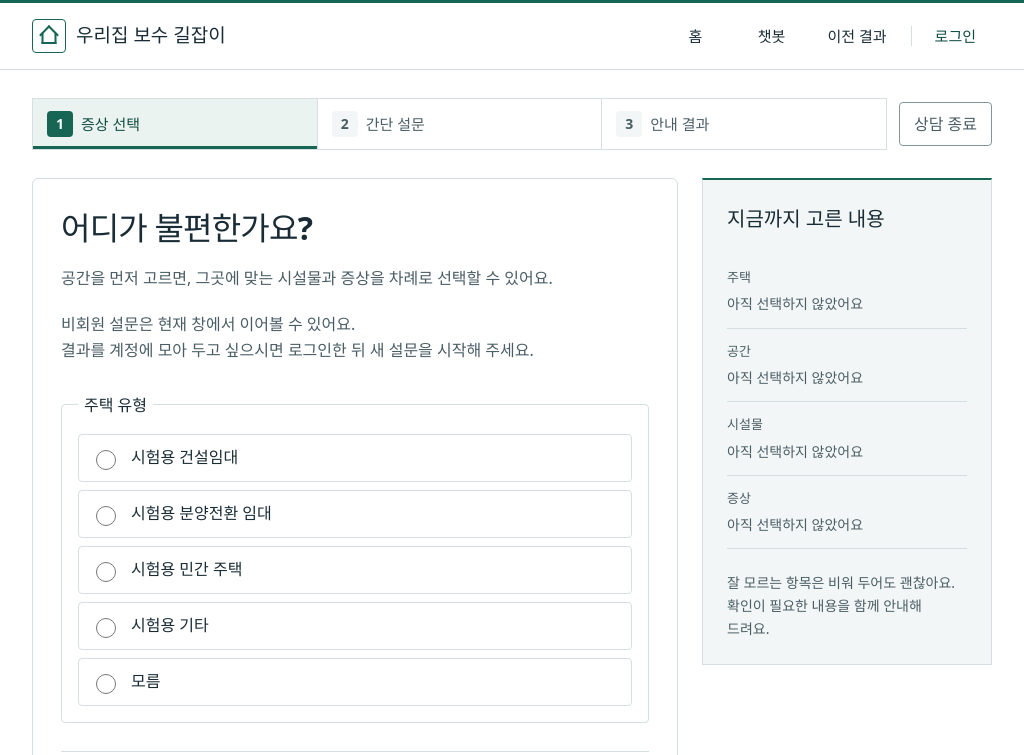
Test case: lets a person with an unknown facility report a visible ceiling leak
Click the radio button labelled "시험용 건설임대".
click(106, 460)  # box [96,450,116,470]
(page scrolled)
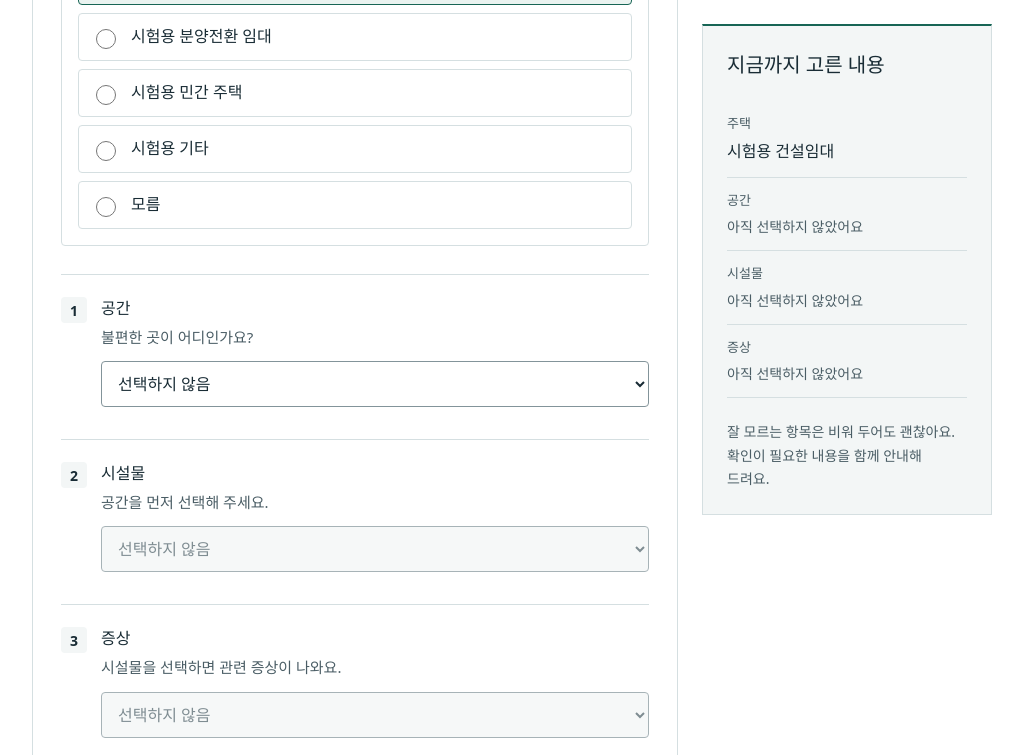
Select "시험용 공간" in the dropdown with id "room" at (375,384), box [101,361,649,407]
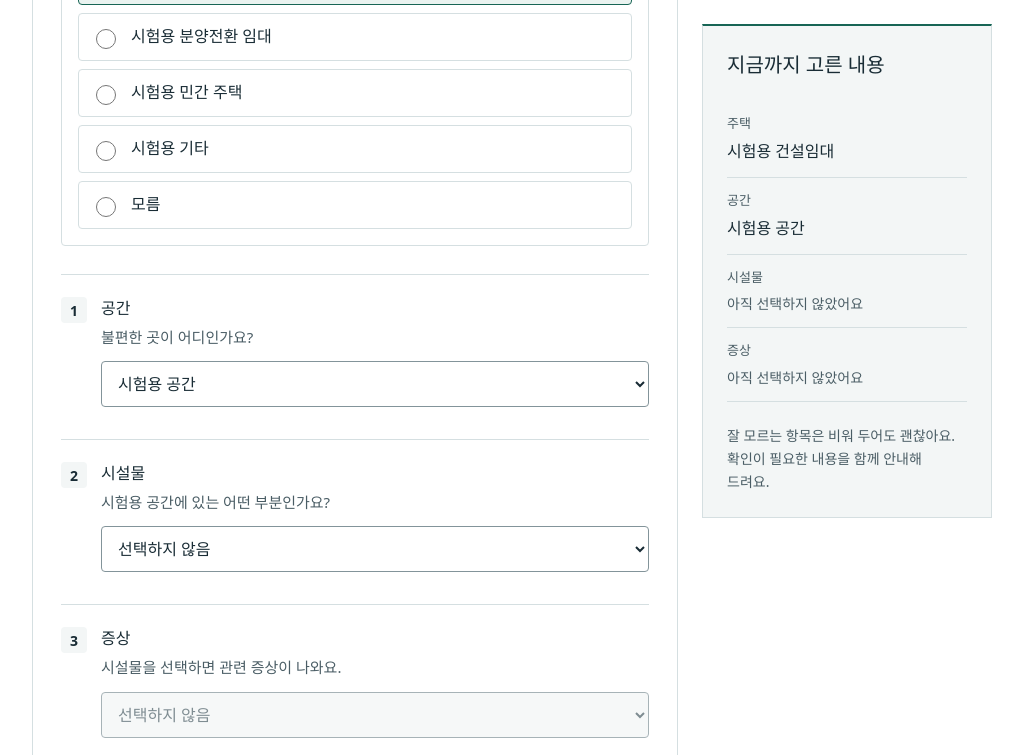
Select "벽·천장 마감" in the dropdown with id "facility" at (375,549), box [101,526,649,572]
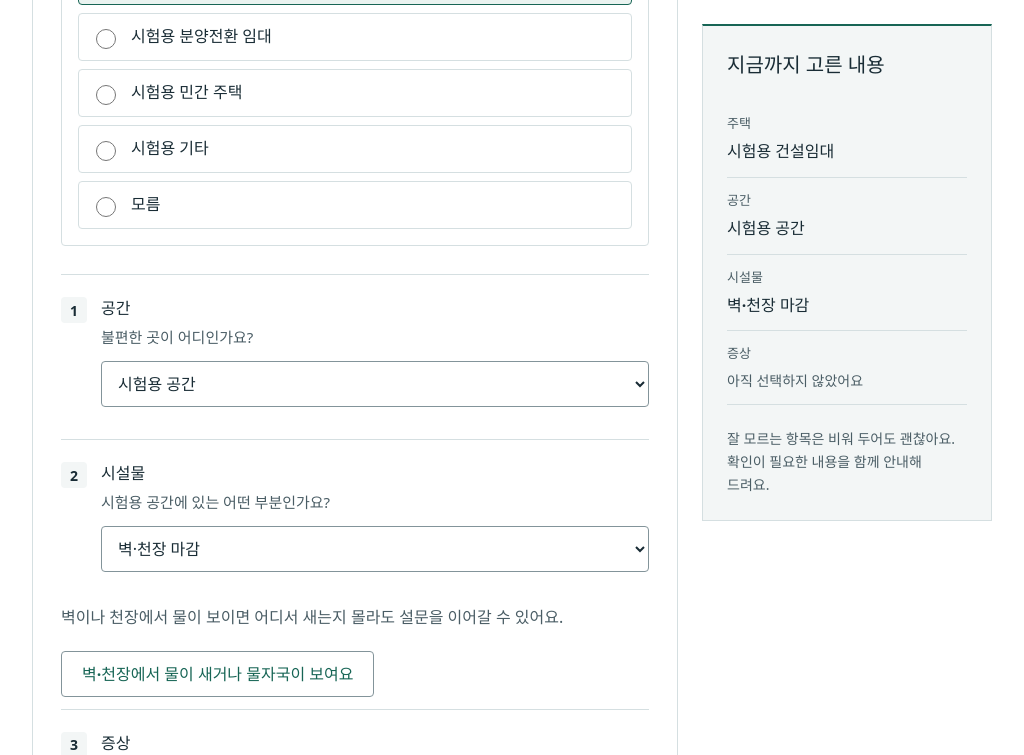
Click the button "벽·천장에서 물이 새거나 물자국이 보여요".
click(218, 674)  # box [61,651,374,697]
(page scrolled)
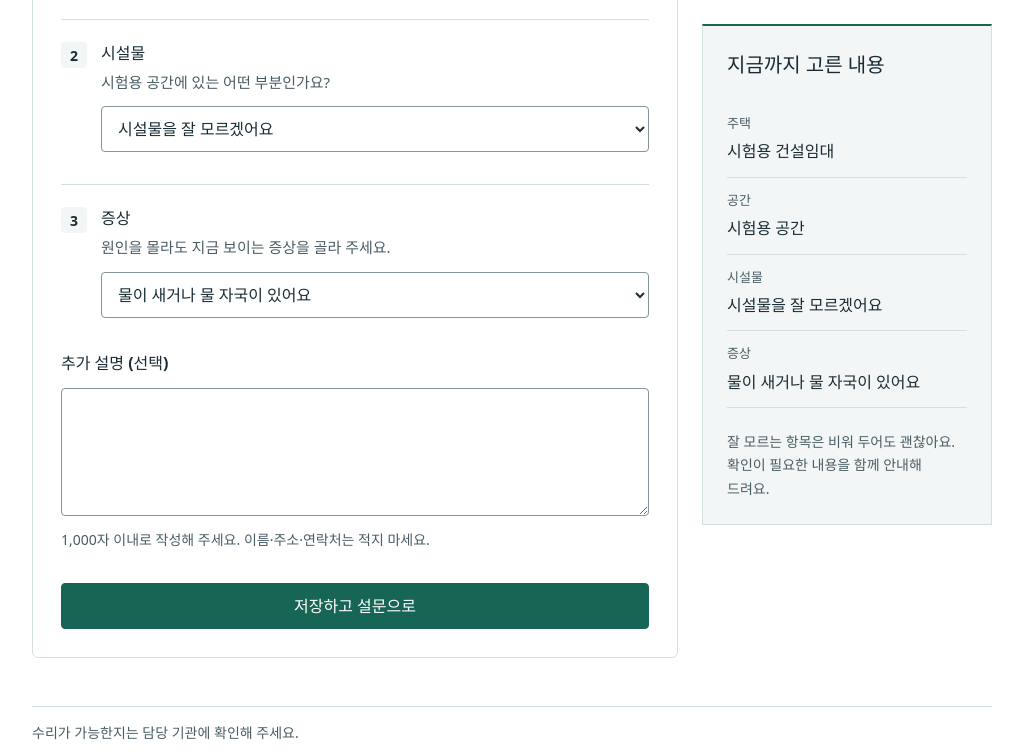
expect the dropdown with id "symptom" shows "물이 새거나 물 자국이 있어요": met, box [101,272,649,318]
Click the button "저장하고 설문으로".
click(355, 606)  # box [61,583,649,629]
(page scrolled)
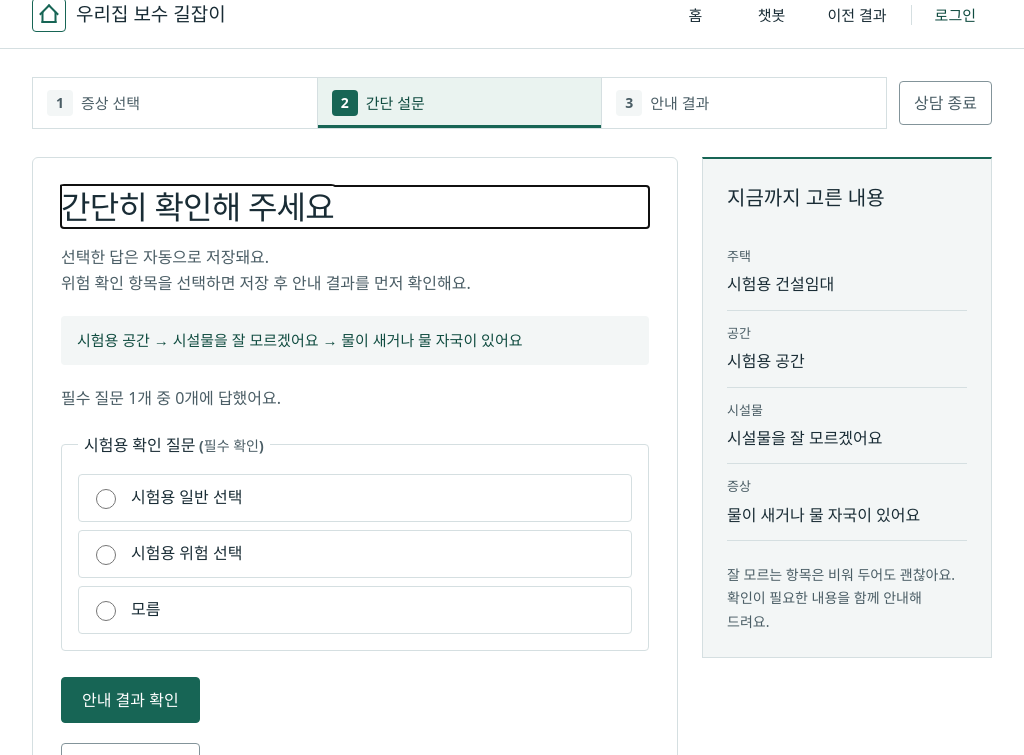
expect the text "시험용 확인 질문" is shown: met, box [84,434,195,456]
